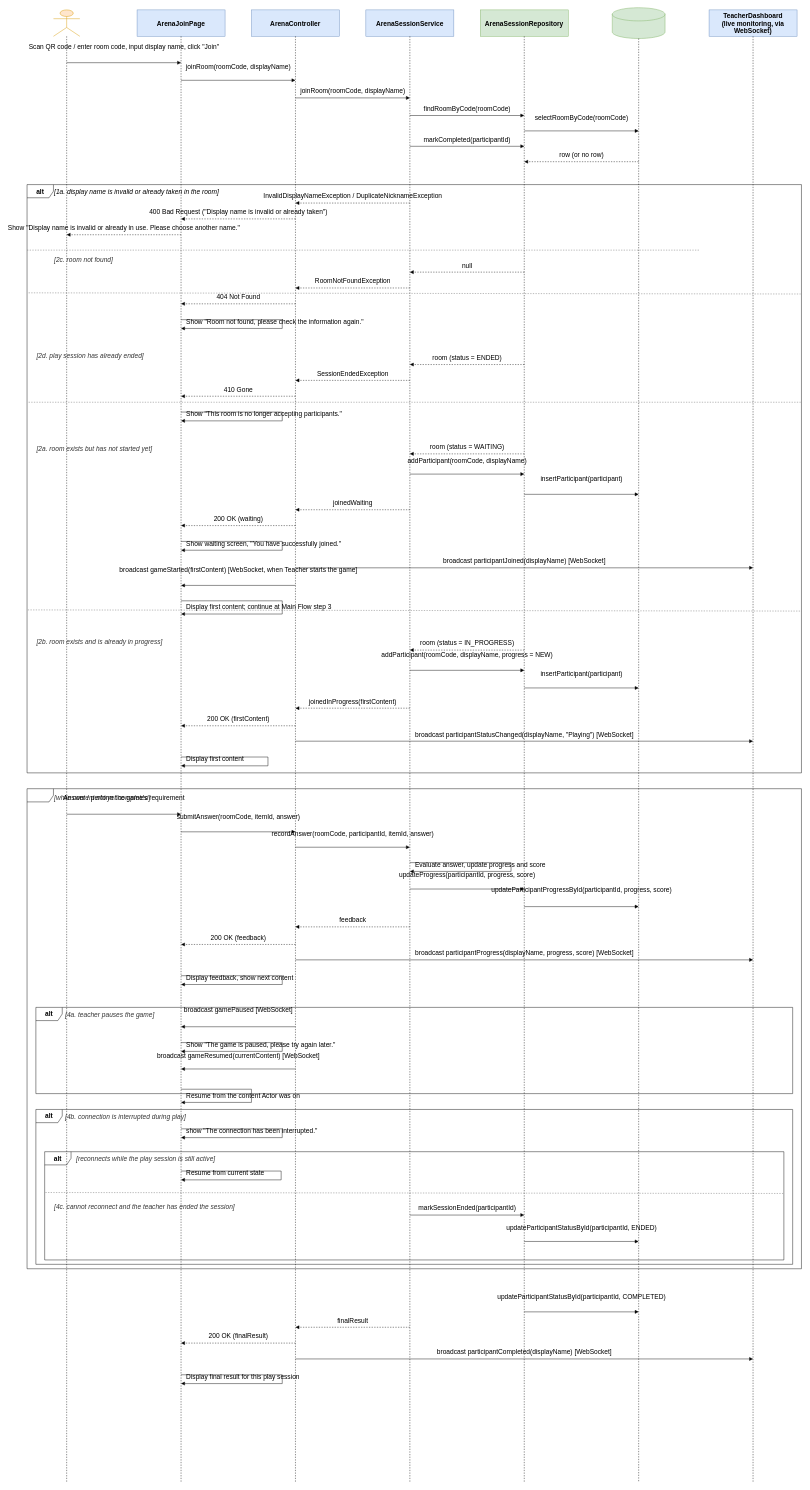
Some shapes in this 810 by 1490 pixel diagram are drawn without their labels. Here are the shapes that lost their labels. From the top down, the box of each, then its label:
(53, 9, 80, 36): Student
(612, 7, 665, 38): PostgreSQL
(27, 788, 801, 1269): loop
